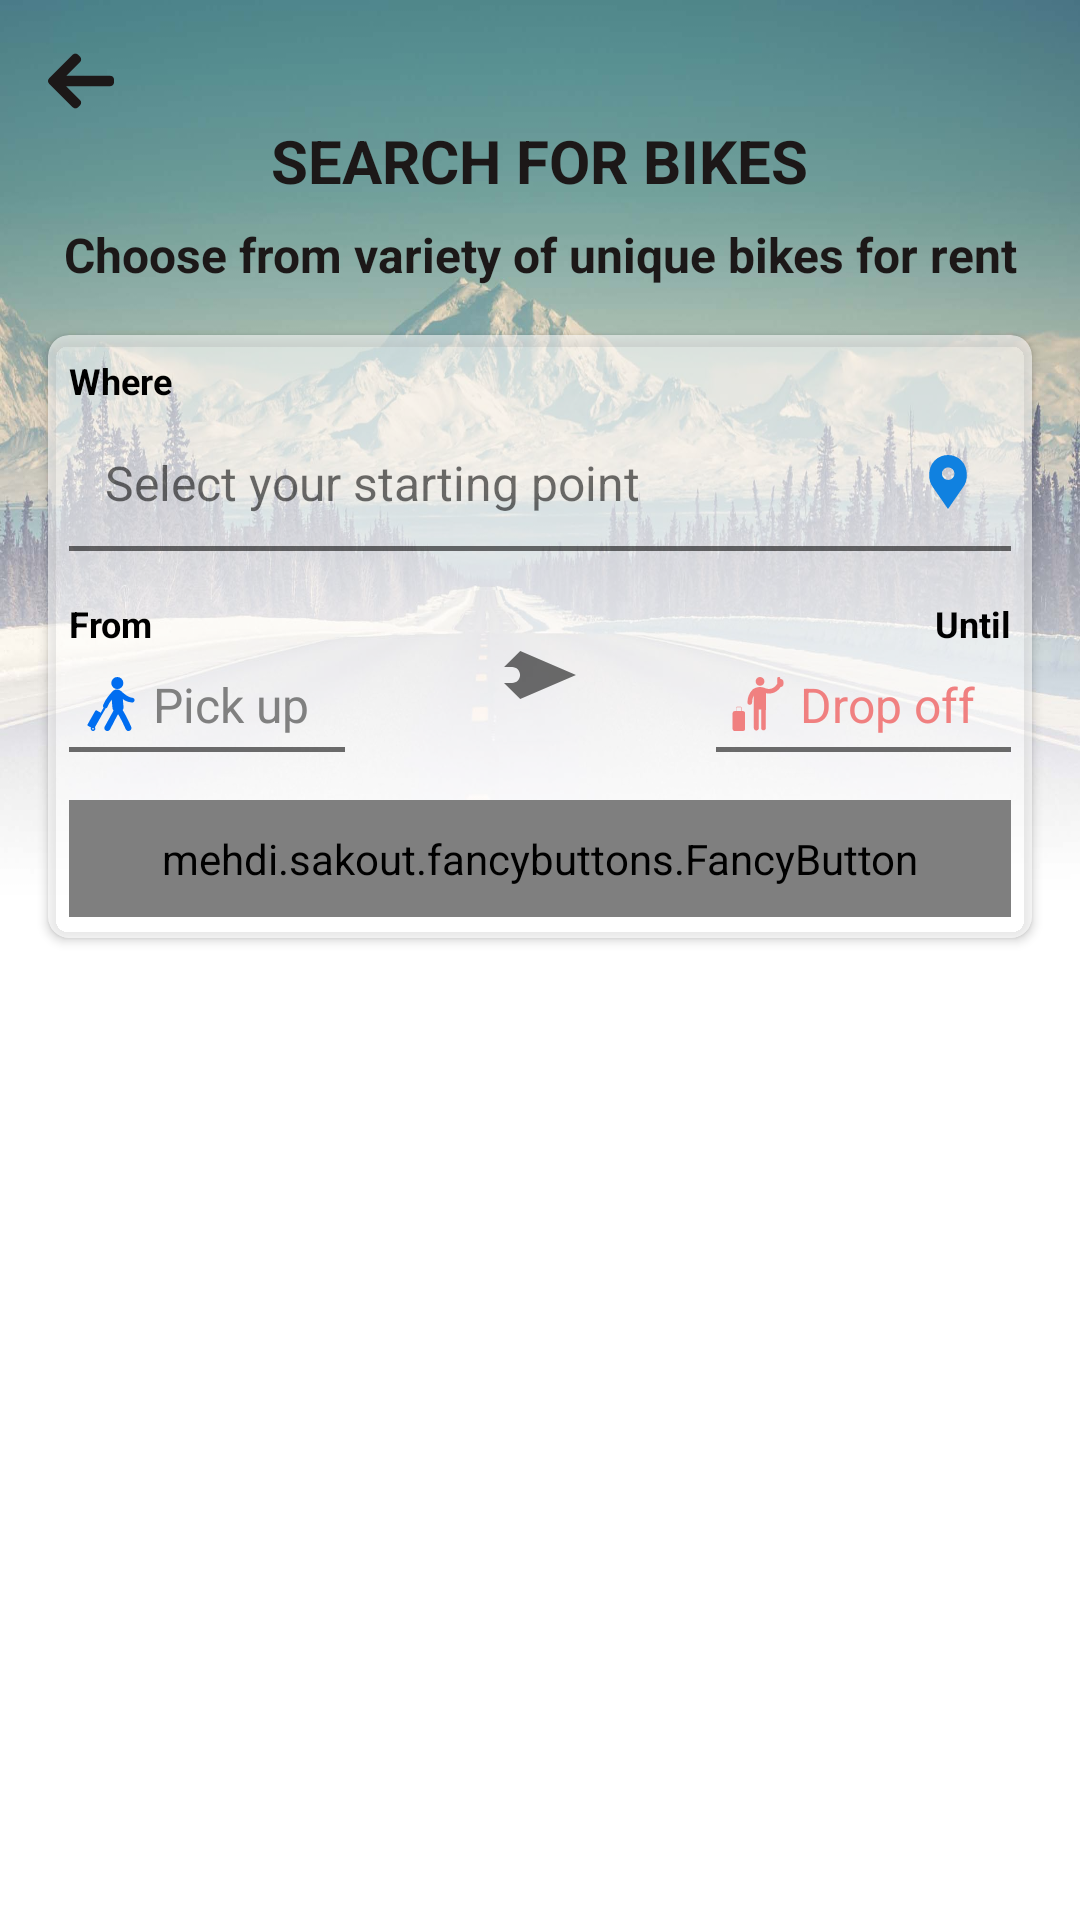

Point at icon controls on the screen. Image size 1080×1920, points as [x,y].
return back: [81,81]
right arrow: [539,675]
